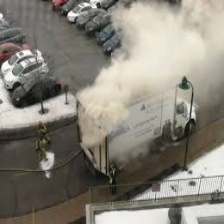smoke: (77, 33, 177, 140)
